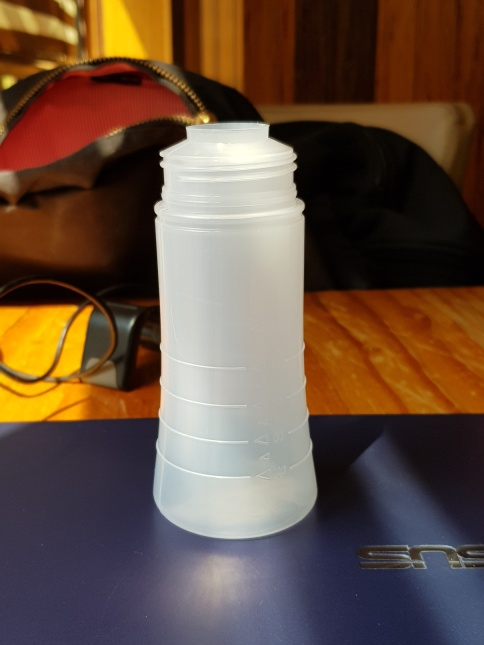Plastic: (145, 120, 321, 541)
